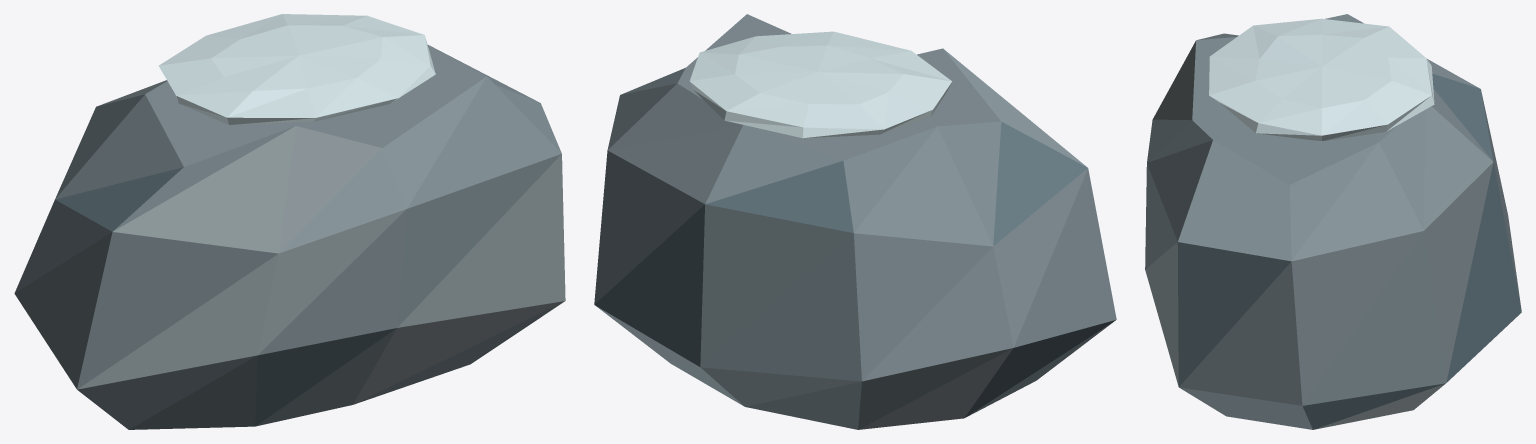
Rendered from ROCK_06_FrostedBoulder.glb.
3 views of the same model, side by side, from view 1: azimuth 30°, elevation 25°; view 2: azimuth 150°, elevation 25°; view 3: azimuth 270°, elevation 25° (orthographic). The views are drawn at different scales.
Parts seen in each view (by area): view 1: ROCK_06_FrostedBoulder; view 2: ROCK_06_FrostedBoulder; view 3: ROCK_06_FrostedBoulder.
Boxes of the visible parts, left/top/right/bottom form: ROCK_06_FrostedBoulder: left=14, top=14, right=565, bottom=429; ROCK_06_FrostedBoulder: left=594, top=14, right=1116, bottom=429; ROCK_06_FrostedBoulder: left=1145, top=14, right=1521, bottom=429.
Bounding box in the file's own units: 2.93 × 1.68 × 1.96.
